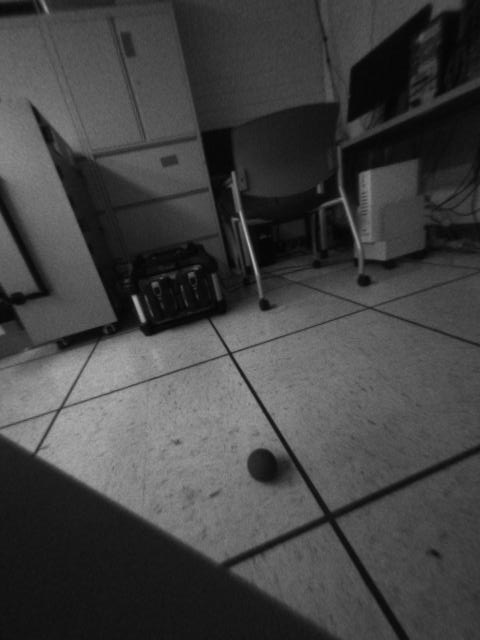dogtoy: (243, 445, 285, 487)
